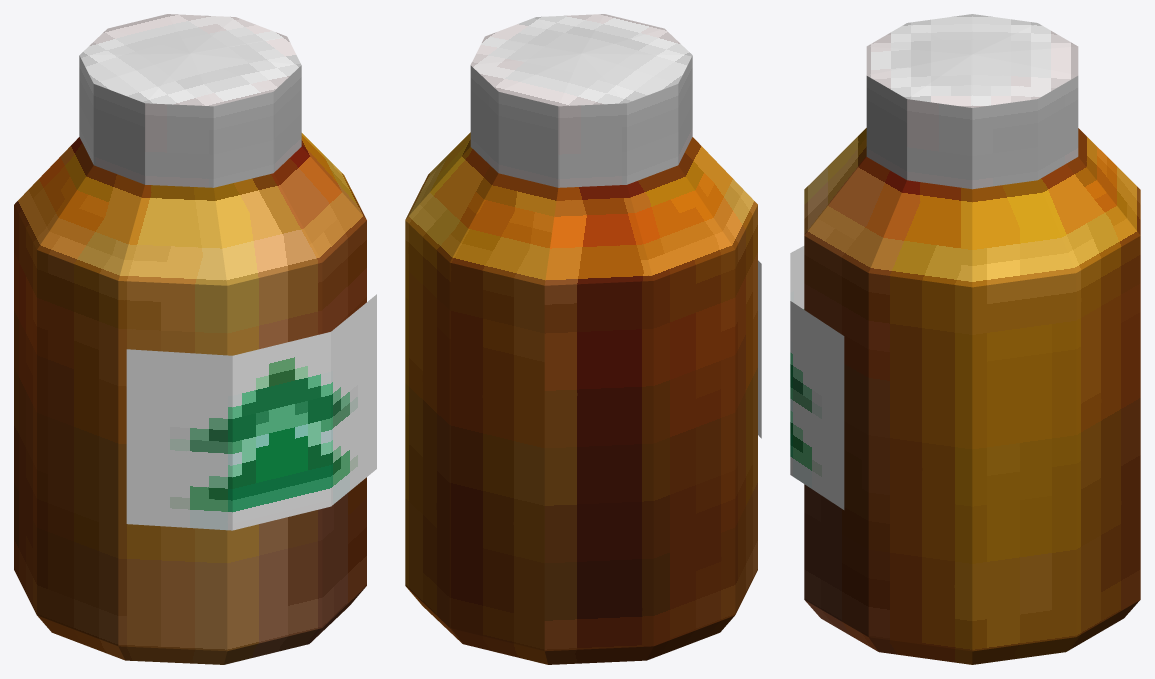
The model's file is item_it08_03_BROMHEXINE.dae.
3 renders of one model, left to right at view 1: azimuth 30°, elevation 25°; view 2: azimuth 150°, elevation 25°; view 3: azimuth 270°, elevation 25°, orthographic.
Parts seen in each view (by area): view 1: vsn_mesh_1_bromhexine, vsn_mesh_0_bromhexine; view 2: vsn_mesh_1_bromhexine, vsn_mesh_0_bromhexine; view 3: vsn_mesh_1_bromhexine, vsn_mesh_0_bromhexine.
Part boxes in pixels (x1,y1,x2,y2): vsn_mesh_1_bromhexine: (14, 14, 366, 664); vsn_mesh_0_bromhexine: (126, 294, 376, 530); vsn_mesh_1_bromhexine: (405, 14, 757, 664); vsn_mesh_0_bromhexine: (758, 260, 761, 438); vsn_mesh_1_bromhexine: (804, 14, 1140, 664); vsn_mesh_0_bromhexine: (790, 246, 844, 509).
Bounding box in the file's own units: 0.2501 × 0.4241 × 0.2477.
Materials: 2 (2 with a texture image).
